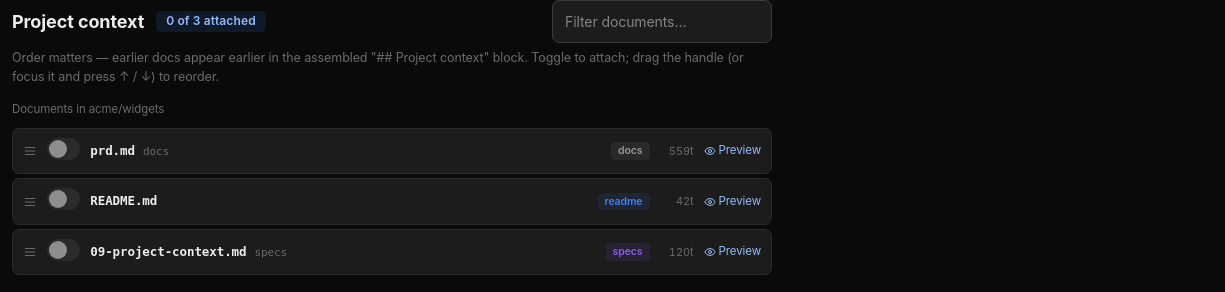
it: ContextTab (agent editor) › preview panel › swaps content when Preview is clicked on a different row
This screenshot has width=1225, height=292.
Expected: the text "README.md" is shown, x1=90 y1=192 x2=157 y2=211
Click the button with aria-label "Preview docs/prd.md": (732,151) x1=704 y1=142 x2=761 y2=160
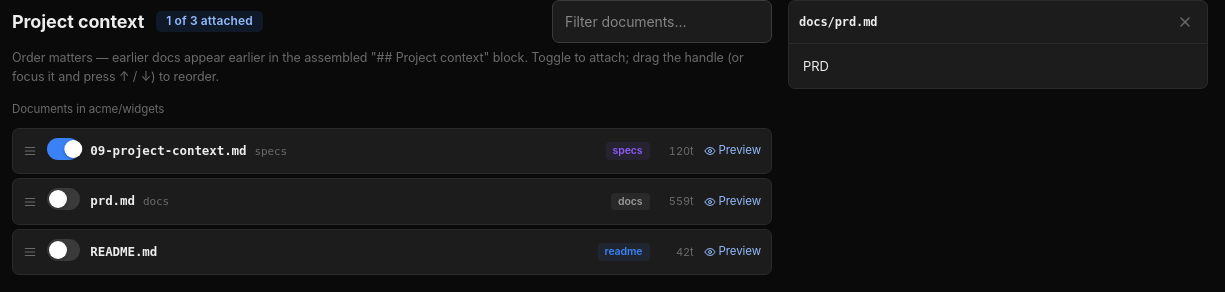
Now the element "docs/prd.md" is shown, box x1=788 y1=0 x2=1208 y2=89
Click the button with aria-label "Preview README.md": (732,252) x1=704 y1=243 x2=761 y2=261
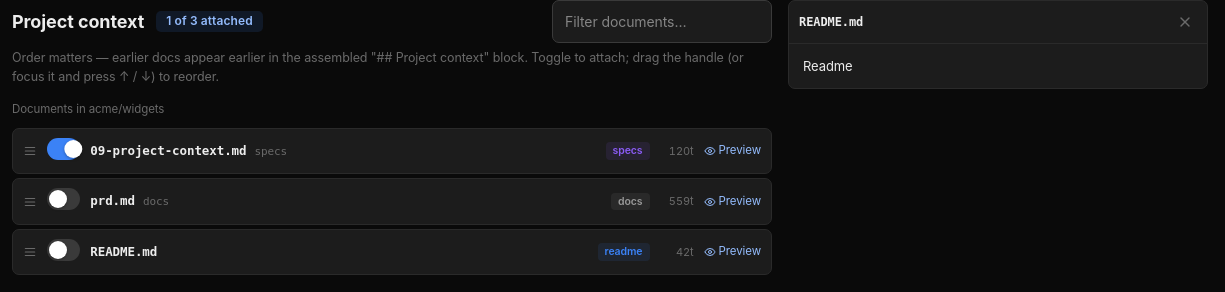
Now the element "README.md" is shown, box x1=788 y1=0 x2=1208 y2=89
Now the text "docs/prd.md" is gone
